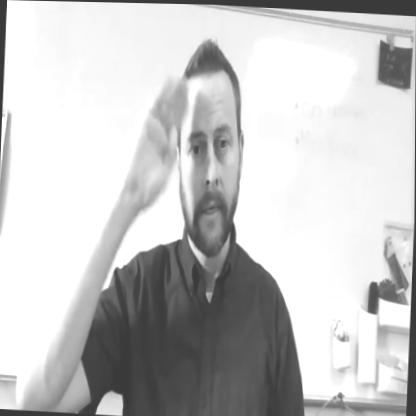Hello: (109, 19, 264, 315)
